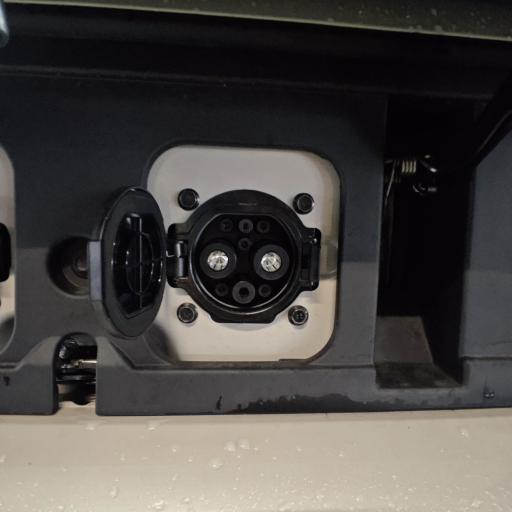DC_charging_port: (184, 202, 308, 320)
DC_hole: (198, 242, 238, 280), (253, 243, 290, 280)
PE: (232, 281, 256, 303)
